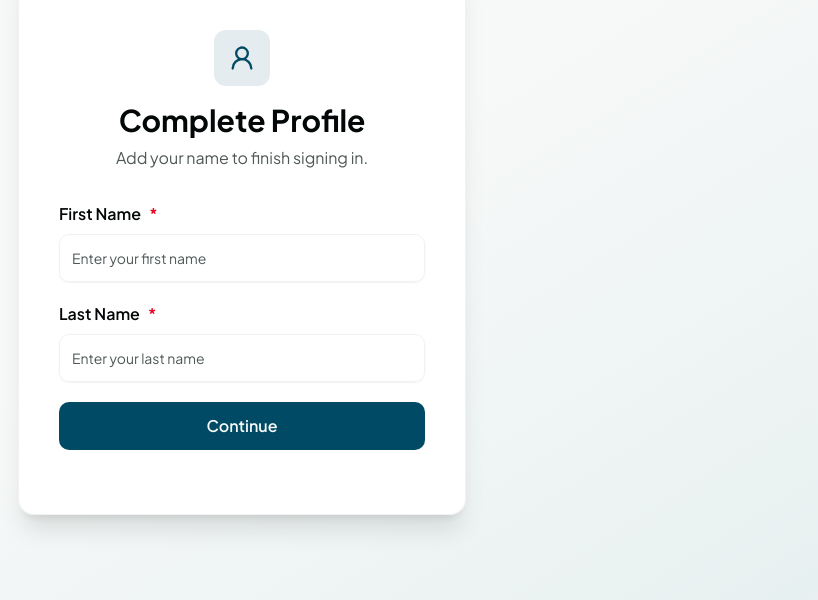
CompleteProfilePage › shows error when last name is empty on submit
Type "John" into the field labelled "First Name *". click: (242, 258)
box: [59, 234, 425, 282]
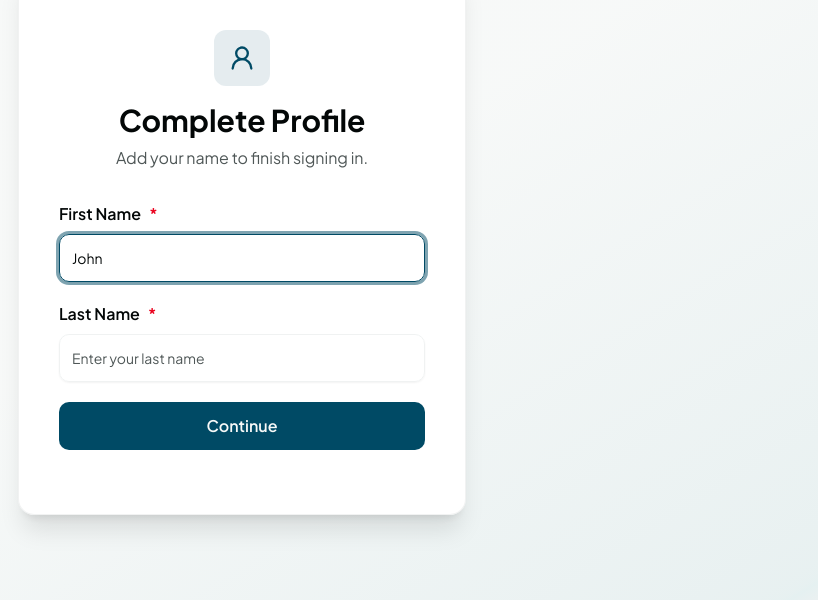
Click the button "Continue". click: (242, 426)
box: [59, 402, 425, 450]
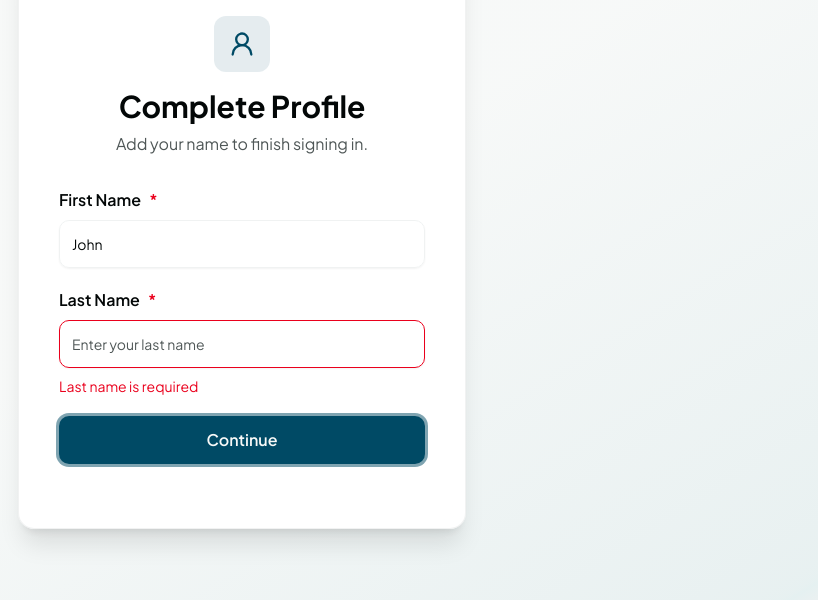
Expected: the text "Last name is required" is shown, [59, 377, 198, 395]
